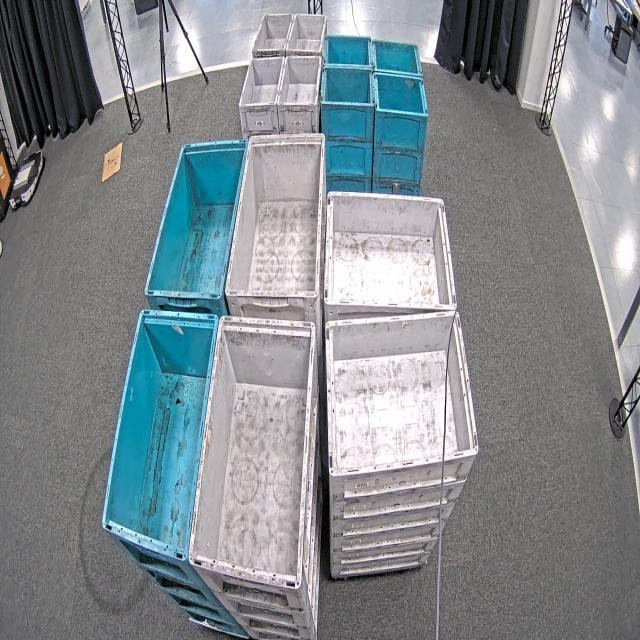Roll3G: (324, 307, 480, 479), (319, 191, 459, 312)
Roll4G: (187, 314, 317, 594), (224, 130, 326, 300)
Roll8G: (237, 52, 324, 111), (251, 11, 327, 56)
RollB4: (100, 305, 220, 563), (143, 137, 250, 300)
RollB8: (370, 36, 431, 126), (320, 33, 374, 116)
